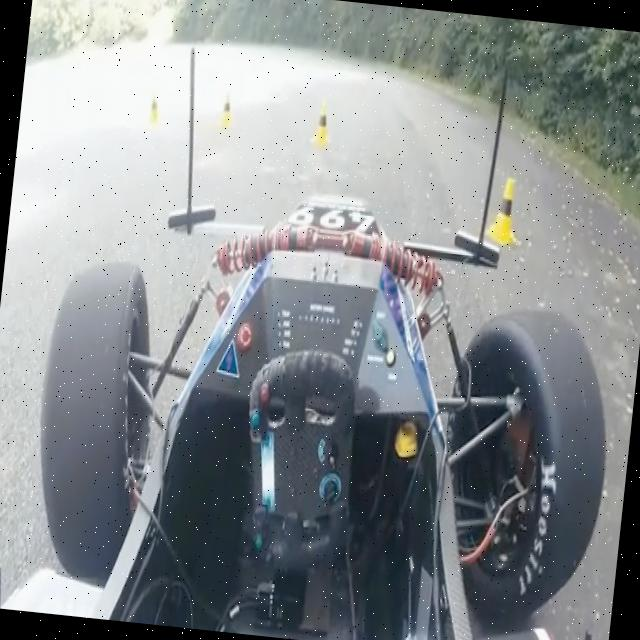yellow_cone: (484, 175, 524, 247), (312, 100, 334, 150)
